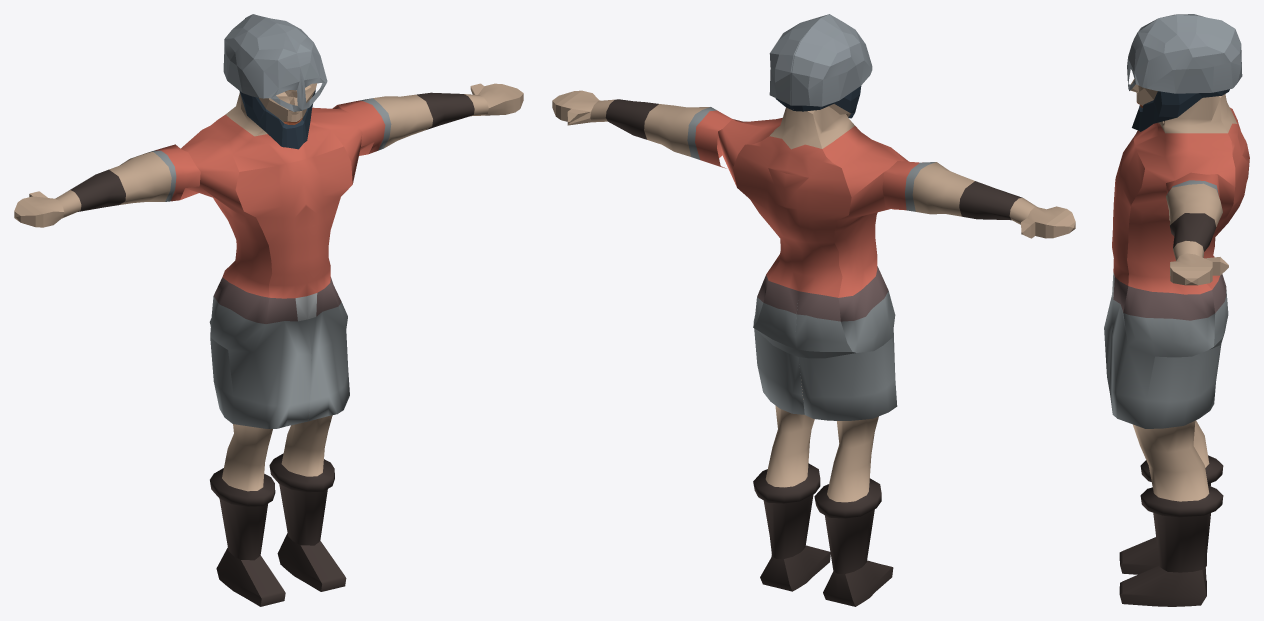
The model's file is warrior1 (1).fbx.
3 renders of one model, left to right at view 1: azimuth 30°, elevation 25°; view 2: azimuth 150°, elevation 25°; view 3: azimuth 270°, elevation 25°, orthographic. The views are drawn at different scales.
Visible parts, largest first — view 1: Box001, Helmet, CABEZA; view 2: Box001, Helmet, CABEZA; view 3: Box001, Helmet, CABEZA.
Part boxes in pixels (x1,y1,x2,y2): Box001: [14, 83, 523, 606]; Helmet: [223, 14, 327, 111]; CABEZA: [239, 83, 317, 149]; Box001: [552, 90, 1075, 606]; Helmet: [769, 14, 872, 106]; CABEZA: [775, 86, 861, 118]; Box001: [1104, 94, 1249, 606]; Helmet: [1127, 14, 1242, 93]; CABEZA: [1130, 79, 1229, 131].
Size of the model in its own units: 2952 by 3102 by 719.
